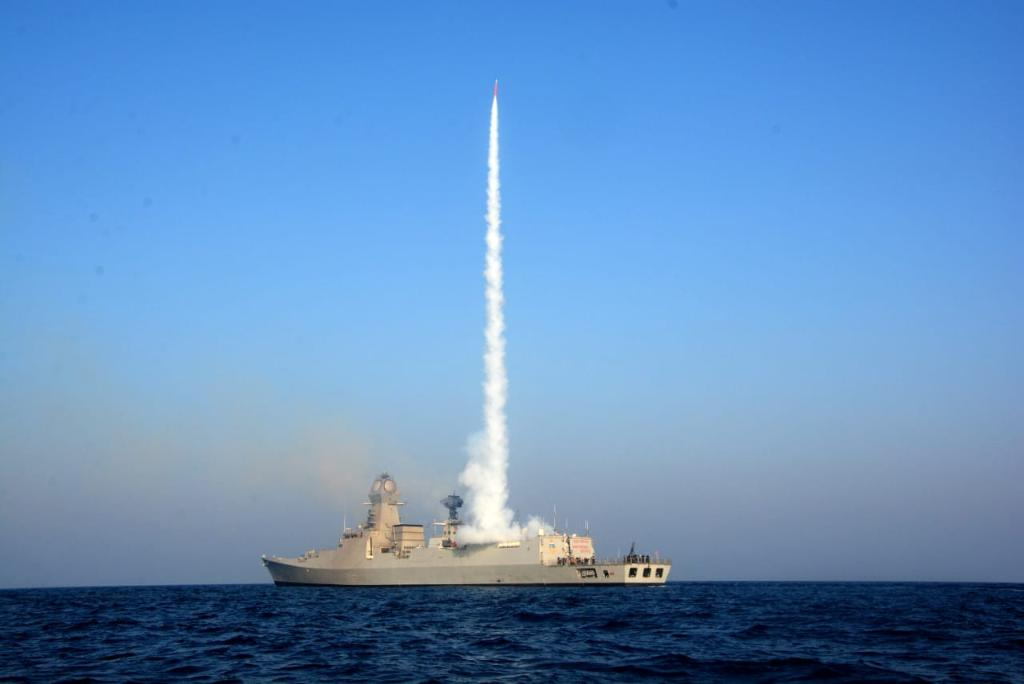Warship: (257, 472, 677, 586)
